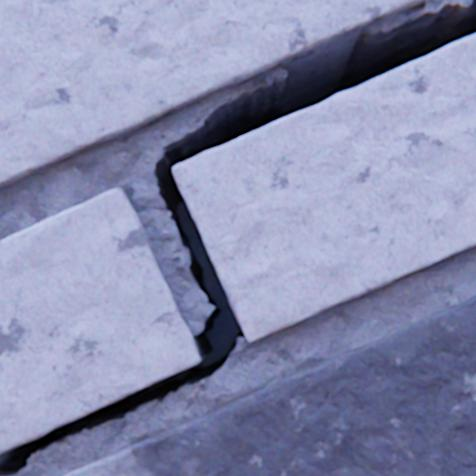brick: (173, 35, 475, 342), (0, 0, 425, 188), (65, 295, 475, 475), (0, 189, 199, 454)
crack: (0, 0, 475, 475)
